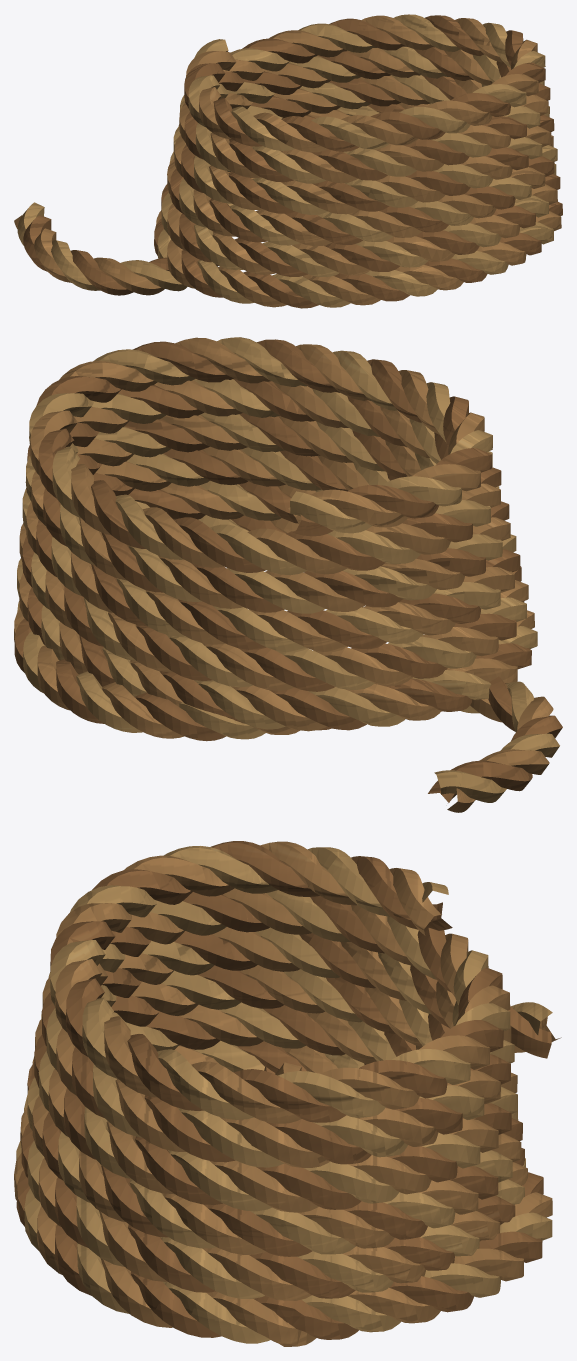
File: laid_hemp.gltf
3 views of the same model, one above another, from view 1: azimuth 30°, elevation 25°; view 2: azimuth 150°, elevation 25°; view 3: azimuth 270°, elevation 25° (orthographic). The views are drawn at different scales.
Visible parts, largest first — view 1: laid_hemp; view 2: laid_hemp; view 3: laid_hemp.
Boxes of the visible parts, x1,y1,x2,y2 form: laid_hemp: [14, 14, 562, 308]; laid_hemp: [14, 337, 562, 812]; laid_hemp: [14, 841, 561, 1346].
Size of the model in its own units: 0.8554 by 0.3457 by 0.6082.
Materials: 3 (3 with a texture image).
